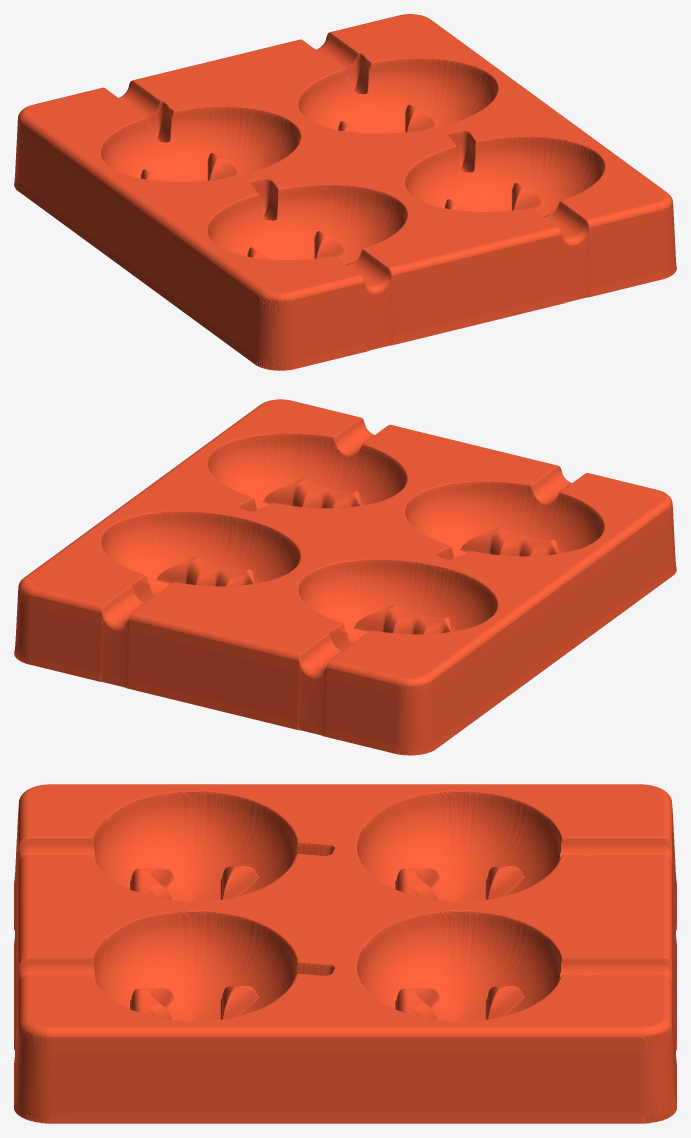
The model's file is mold.glb.
3 renders of one model, top to bottom at view 1: azimuth 30°, elevation 25°; view 2: azimuth 150°, elevation 25°; view 3: azimuth 270°, elevation 25°, orthographic. The views are drawn at different scales.
Parts seen in each view (by area): view 1: geometry_0; view 2: geometry_0; view 3: geometry_0.
Part boxes in pixels (left/top/right/bottom): geometry_0: left=14, top=14, right=676, bottom=370; geometry_0: left=14, top=399, right=676, bottom=755; geometry_0: left=14, top=784, right=676, bottom=1123.
Bounding box in the file's own units: 0.1468 × 0.0245 × 0.1621.
